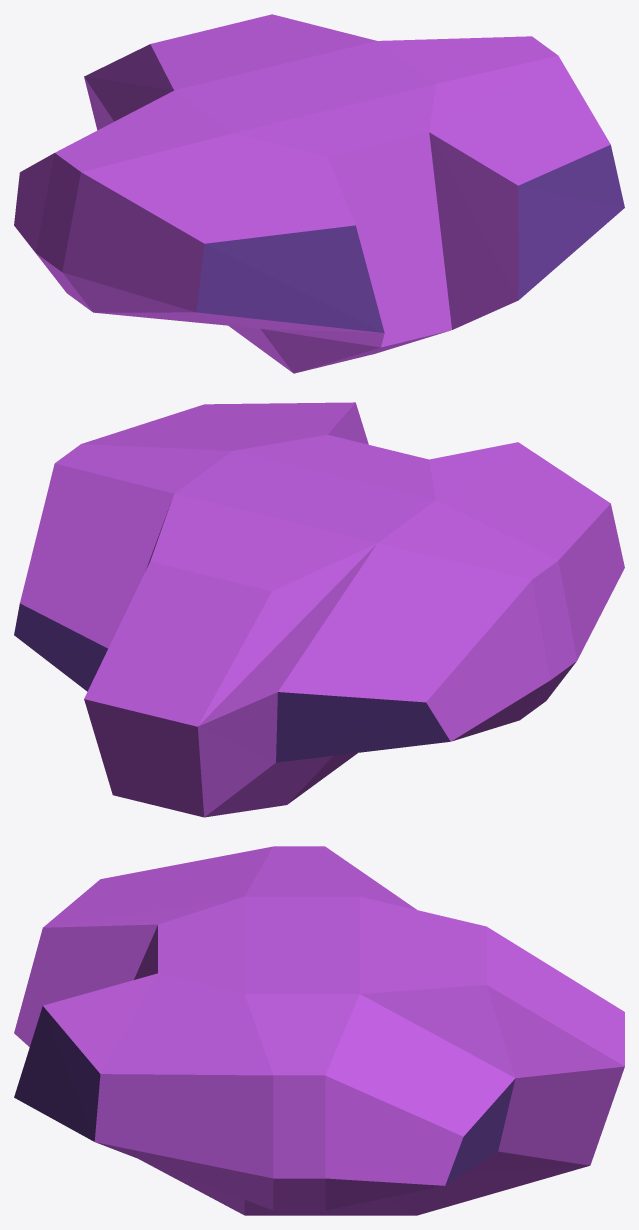
Rendered from body2.FBX.
3 views of the same model, one above another, from view 1: azimuth 30°, elevation 25°; view 2: azimuth 150°, elevation 25°; view 3: azimuth 270°, elevation 25° (orthographic).
Parts seen in each view (by area): view 1: VIFS001, VIFS002; view 2: VIFS001, VIFS002; view 3: VIFS001, VIFS002.
Part boxes in pixels (<box>): VIFS001: <box>14,14,610,373</box>; VIFS002: <box>196,144,624,332</box>; VIFS001: <box>20,402,624,817</box>; VIFS002: <box>14,603,450,762</box>; VIFS001: <box>14,846,624,1215</box>; VIFS002: <box>14,1006,515,1185</box>.
Size of the model in its own units: 1.01 by 0.48 by 1.06.
